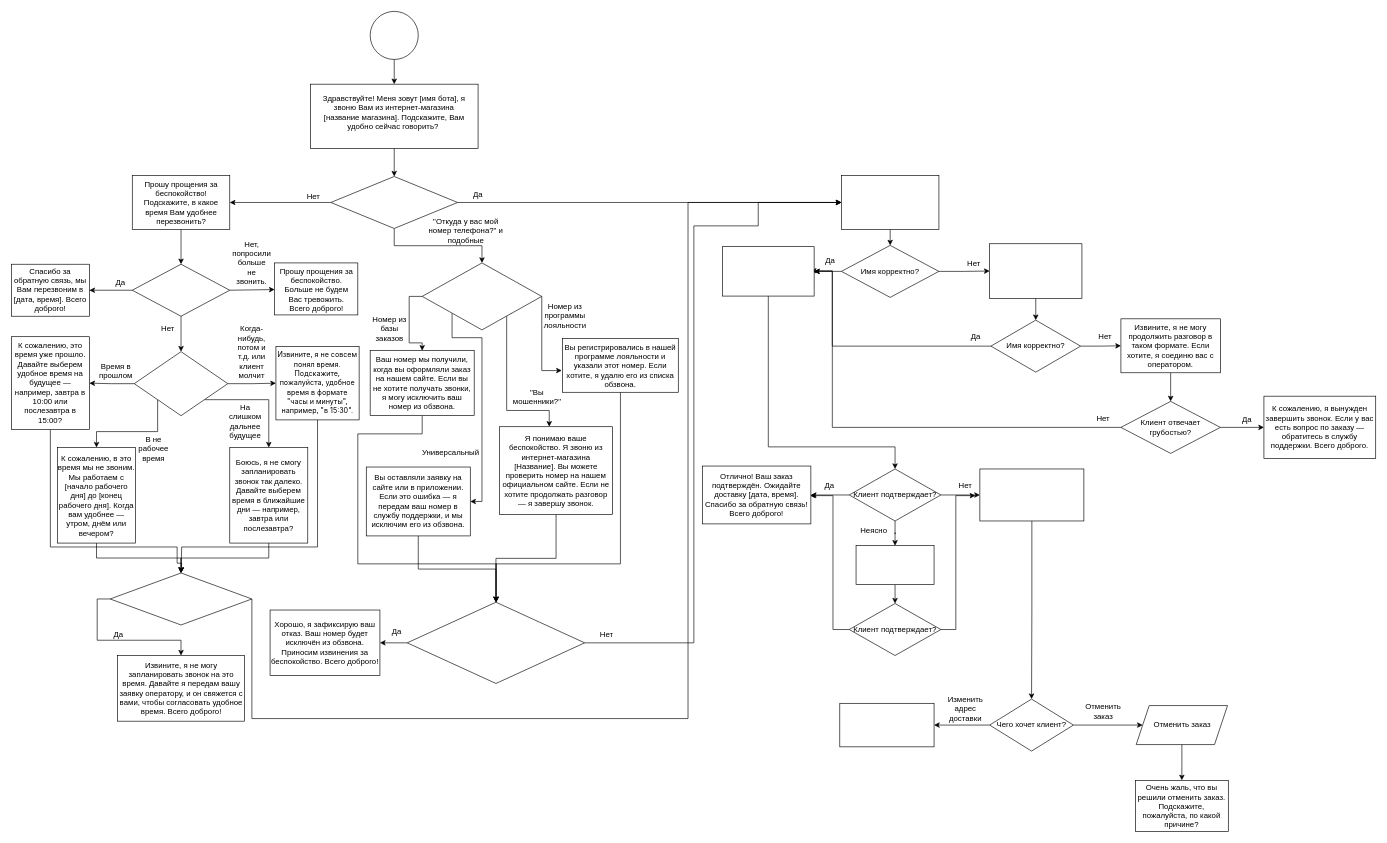
The diagram is 1387 pixels wide and 843 high, and some of its shapes have lost their labels. The shapes that lost their labels are listed below. From the top down, each one's centre as x and y in pixels, then its label:
the point at 394,35: Начало
the point at 394,202: "Удобно ли сейчас говорить?"
the point at 890,202: Отлично! Подскажите, пожалуйста, как я могу к вам обращаться?
the point at 181,290: Время корректно?
the point at 768,271: [Имя], вы оформляли заказ на [Товар] на сумму [Сумма]. Подтверждаете заказ?
the point at 1035,270: Извините, я не расслышал. Подскажите, пожалуйста, ваше имя.
the point at 482,296: *Ответ на данный вопрос зависит откуда он действительно*
the point at 181,383: Какое из некорректных времен?
the point at 1031,494: Понял вас. Что бы вы хотели изменить — адрес доставки или отменить заказ?
the point at 894,565: Уточните, пожалуйста: подтверждаете или хотите изменить?
the point at 181,598: Клиент повторяет говорить некорректное время?
the point at 496,642: Клиент озвучивает пожелание по звонку (хочет завершить - да, продолжить - нет)
the point at 886,725: Подскажите пожалуйста, на какой адрес вы бы хотели изменить?
